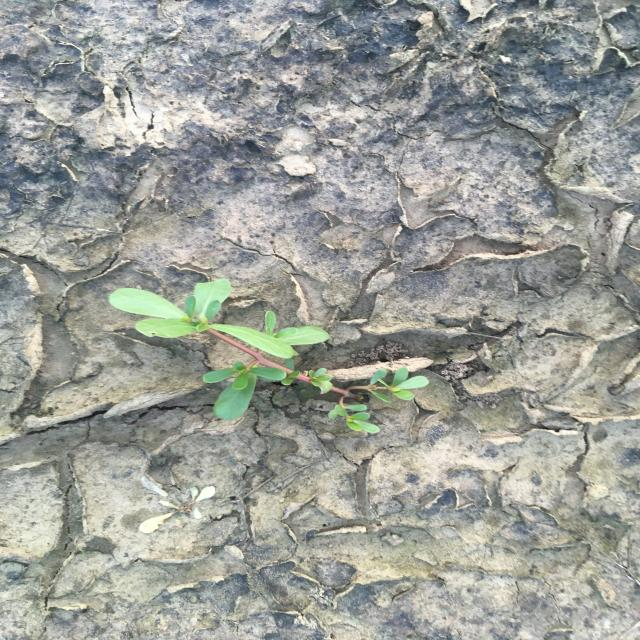Purslane: (108, 277, 432, 436)
